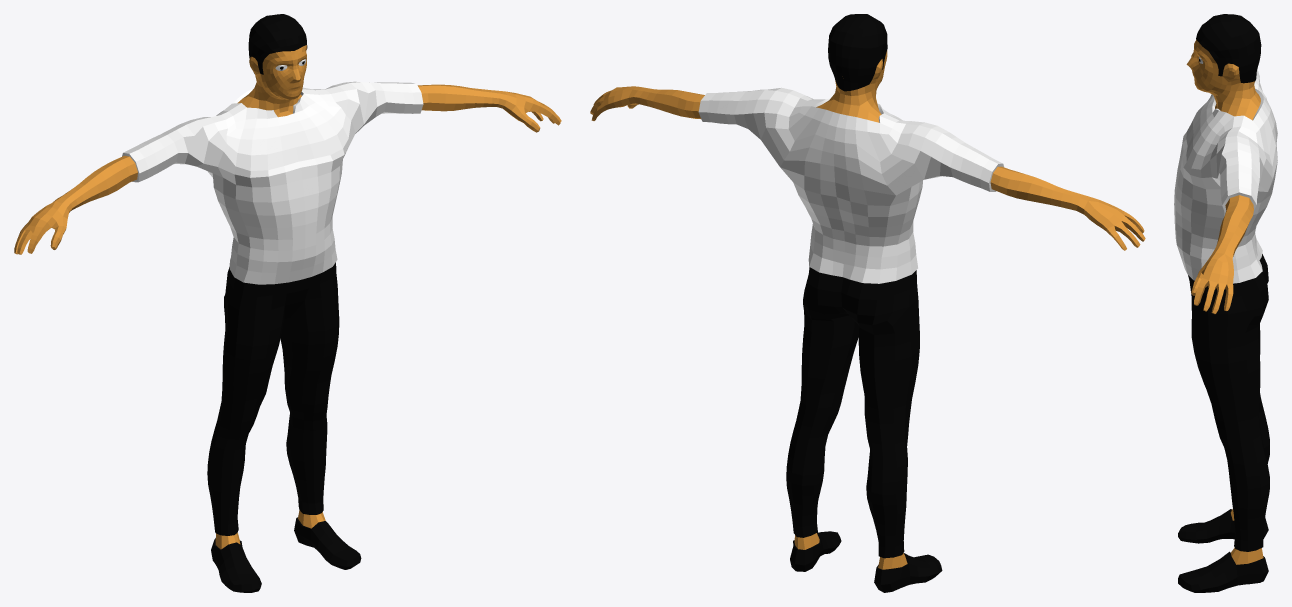
File: changedproto_001.obj
3 renders of one model, left to right at view 1: azimuth 30°, elevation 25°; view 2: azimuth 150°, elevation 25°; view 3: azimuth 270°, elevation 25°, orthographic.
Visible parts, largest first — view 1: T_Shirt, Pants, Head, Arms, Shoes, Hands; view 2: T_Shirt, Pants, Head, Arms, Shoes, Hands; view 3: Pants, T_Shirt, Head, Shoes, Hands, Arms, Ankle.
Boxes of the visible parts, x1,y1,x2,y2 form: T_Shirt: [122, 81, 423, 284]; Pants: [207, 262, 339, 535]; Head: [237, 14, 307, 117]; Arms: [53, 84, 506, 212]; Shoes: [211, 517, 361, 592]; Hands: [14, 91, 561, 254]; T_Shirt: [698, 87, 1003, 283]; Pants: [786, 267, 919, 558]; Head: [816, 14, 887, 122]; Arms: [628, 87, 1089, 214]; Shoes: [790, 531, 942, 592]; Hands: [590, 86, 1145, 250]; Pants: [1188, 254, 1269, 551]; T_Shirt: [1174, 69, 1277, 283]; Head: [1186, 14, 1261, 120]; Shoes: [1178, 509, 1268, 592]; Hands: [1191, 41, 1233, 313]; Arms: [1212, 195, 1253, 258]; Ankle: [1230, 509, 1263, 564].
Bounding box in the file's own units: 75.1 × 72.42 × 12.45.
